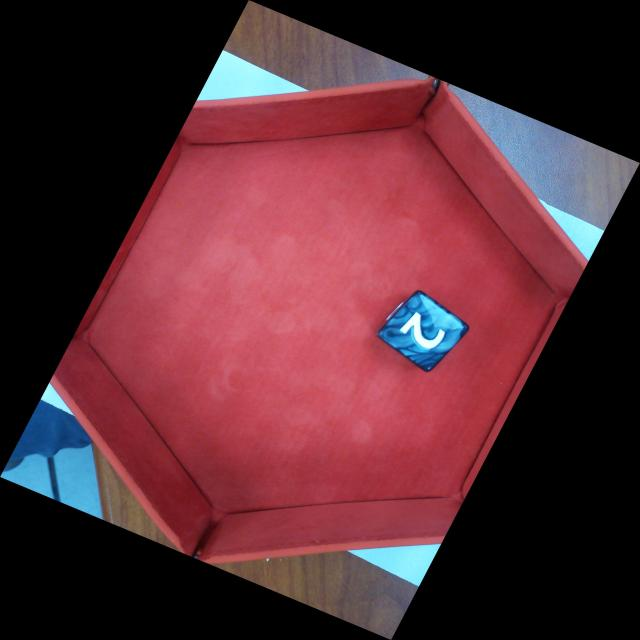dice: (378, 288, 473, 374)
